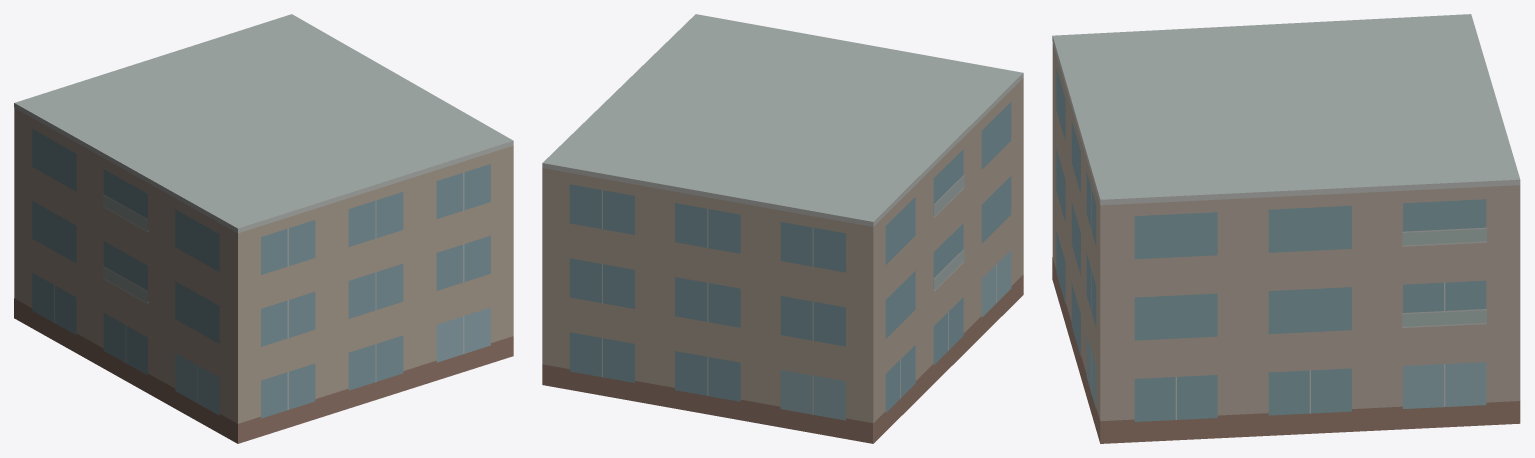
The model's file is survey-upis-32697168.glb.
The picture shows the model from 3 angles, left to right: view 1: azimuth 30°, elevation 25°; view 2: azimuth 150°, elevation 25°; view 3: azimuth 270°, elevation 25°; orthographic projection. The views are drawn at different scales.
Visible parts, largest first — view 1: survey-upis-32697168.tmp; view 2: survey-upis-32697168.tmp; view 3: survey-upis-32697168.tmp.
Part boxes in pixels (x1=…): survey-upis-32697168.tmp: x1=14, y1=14, x2=513, y2=443; survey-upis-32697168.tmp: x1=542, y1=14, x2=1023, y2=443; survey-upis-32697168.tmp: x1=1052, y1=14, x2=1520, y2=443.
Bounding box in the file's own units: 17.64 × 10.8 × 18.77.
